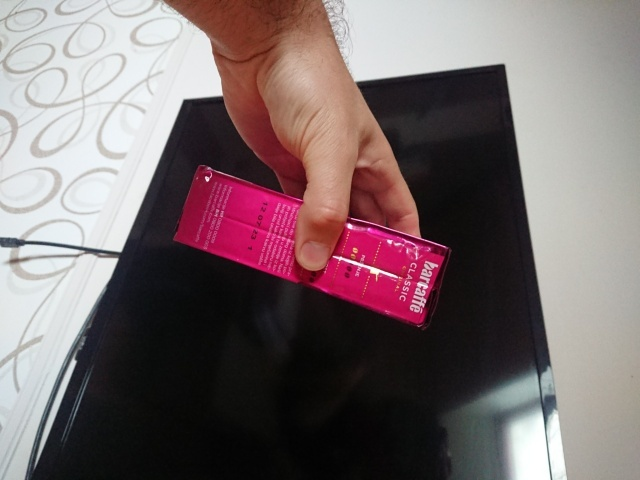Barcaffe Classic Original 225g: (170, 163, 456, 333)
